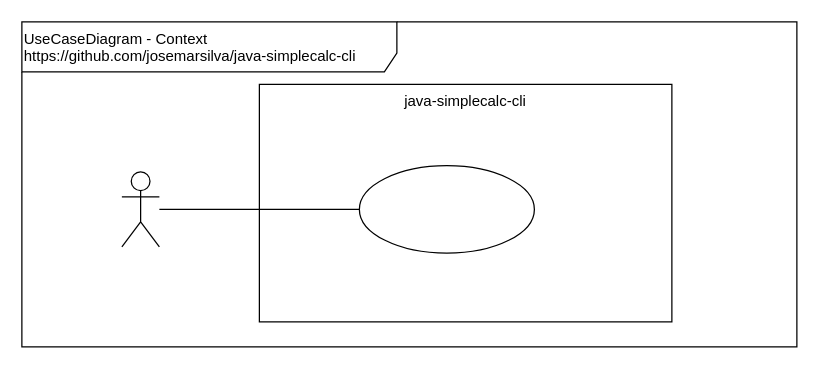
This 819x369 diagram has some shape labels left out. The shapes that lost their labels are listed below. From the top down, each one's centre as x and y in pixels, then its label:
the point at 140,209: Usuário
the point at 446,208: executa o cálculo de uma expressão
